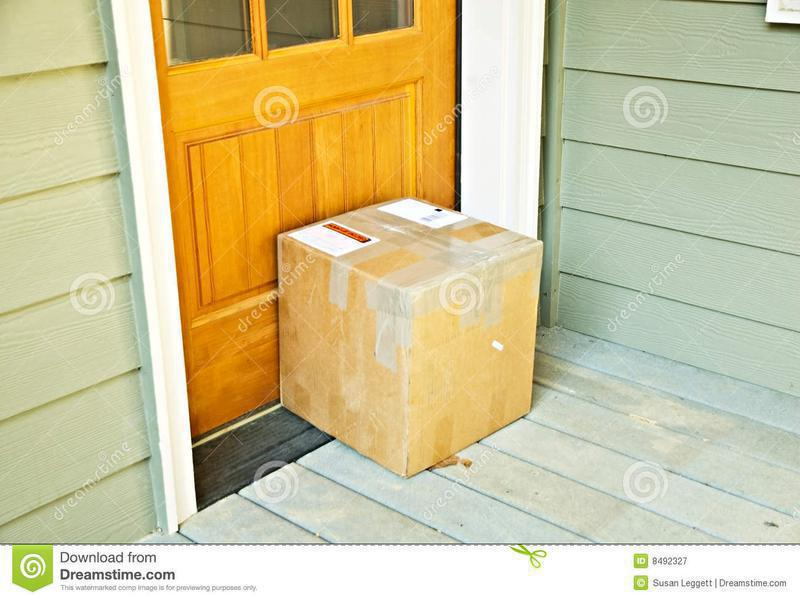package: (266, 189, 557, 483)
